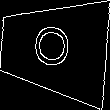O_W: (32, 25, 76, 73)
